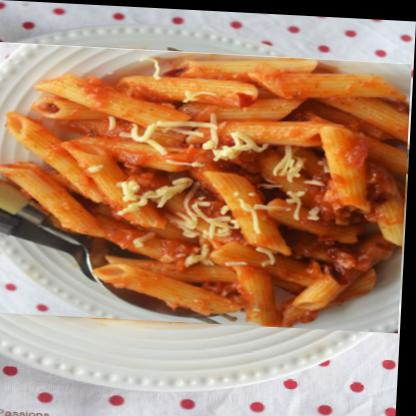pasta: (0, 42, 413, 330)
